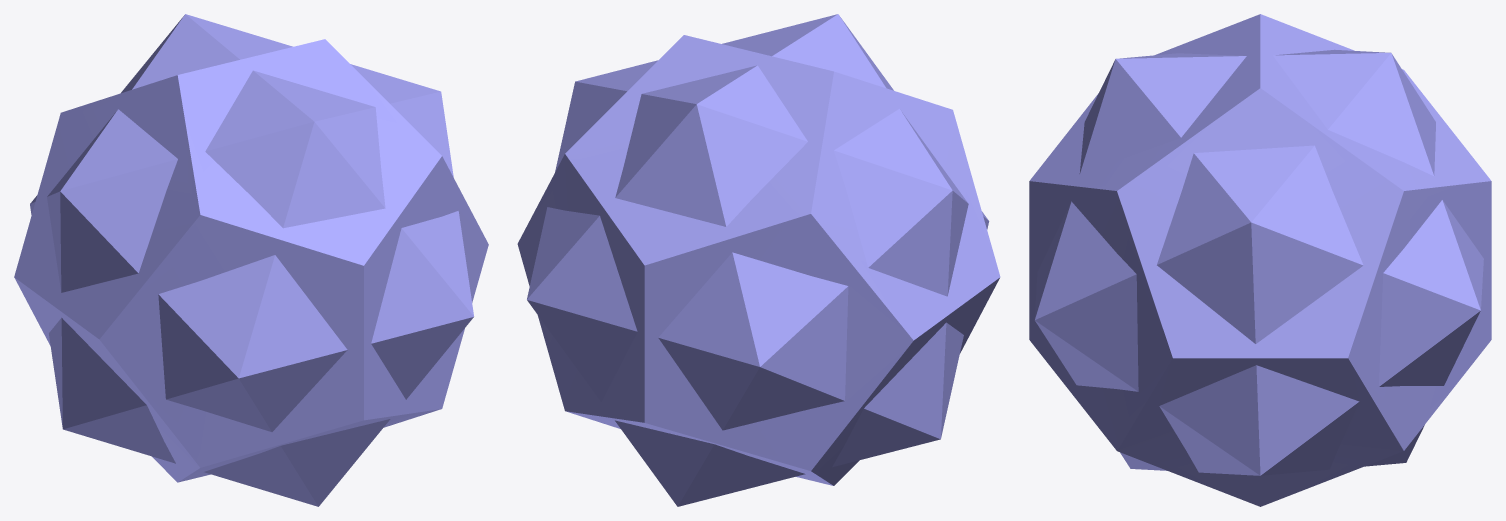
File: tron_1982_bit.glb
3 renders of one model, left to right at view 1: azimuth 30°, elevation 25°; view 2: azimuth 150°, elevation 25°; view 3: azimuth 270°, elevation 25°, orthographic. The views are drawn at different scales.
Parts seen in each view (by area): view 1: Material2; view 2: Material2; view 3: Material2.
Boxes of the visible parts, <box> form: Material2: <box>14,14,488,506</box>; Material2: <box>517,14,1000,506</box>; Material2: <box>1029,14,1491,506</box>.
Bounding box in the file's own units: 12683 × 12683 × 12683.
